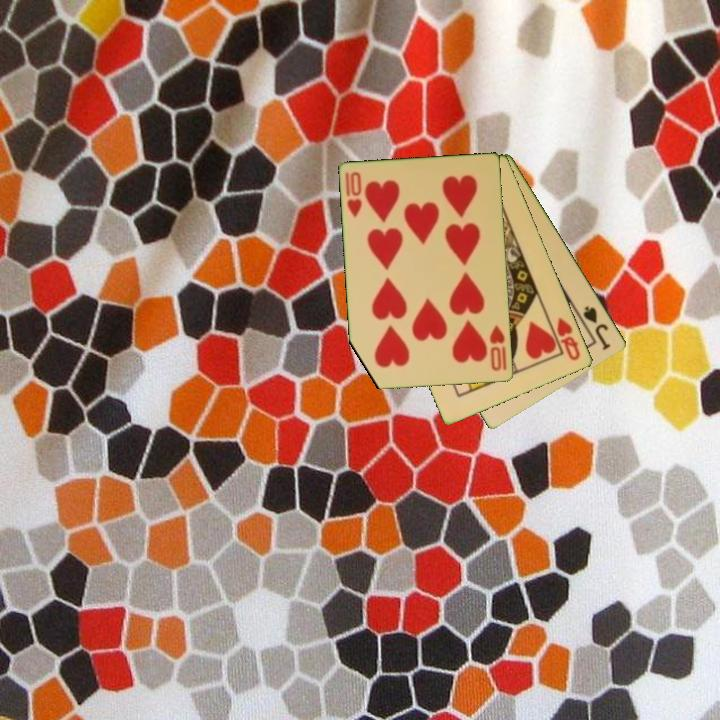10h: (486, 322, 510, 374), (342, 168, 365, 220)
Js: (580, 302, 614, 353)
Qh: (553, 314, 583, 364)
